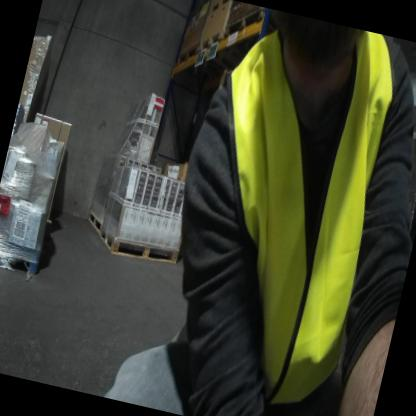pallet: (96, 228, 181, 268), (223, 2, 265, 47), (0, 251, 40, 277), (197, 24, 226, 56), (176, 39, 200, 71), (85, 211, 105, 235), (207, 0, 231, 20)
